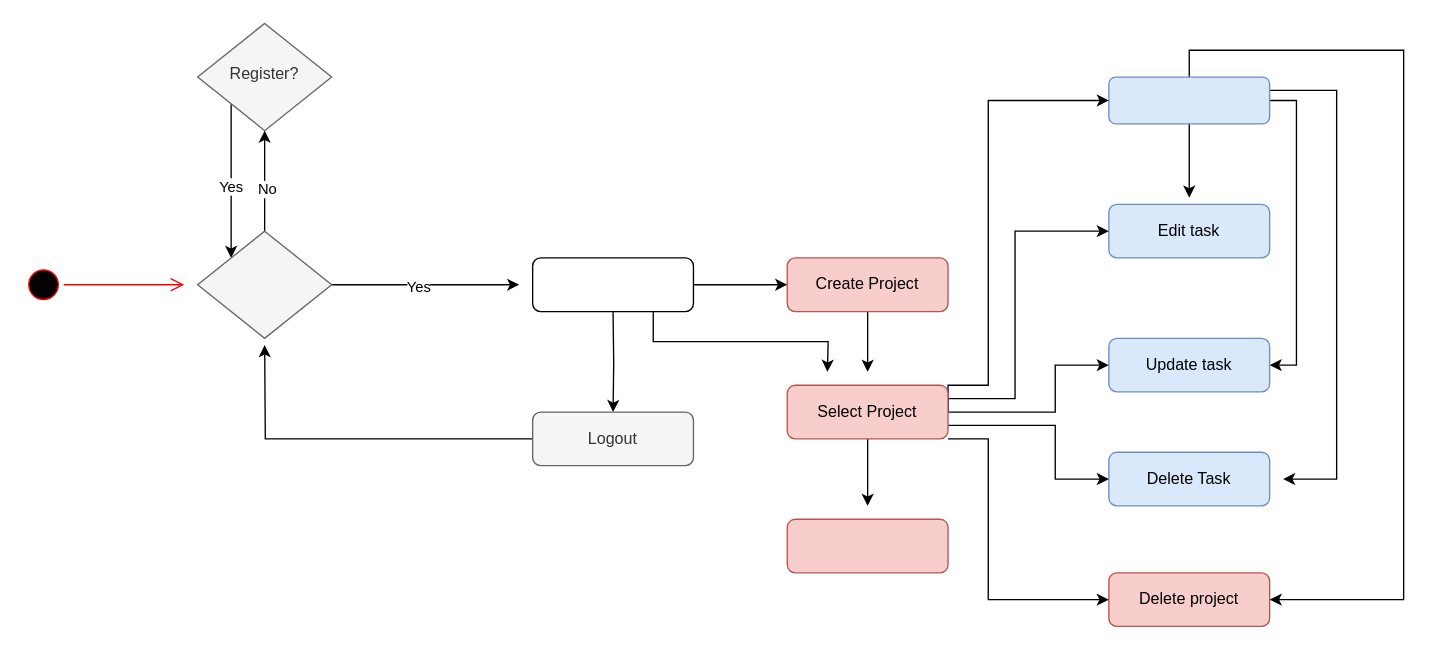
This 1438x650 diagram has some shape labels left out. Here are the shapes that lost their labels. From the top down, the centre of each, then its label:
At (x=1189, y=100): "Create a task".
At (x=264, y=284): "Login?".
At (x=612, y=284): "Main".
At (x=867, y=545): "Update Project".
